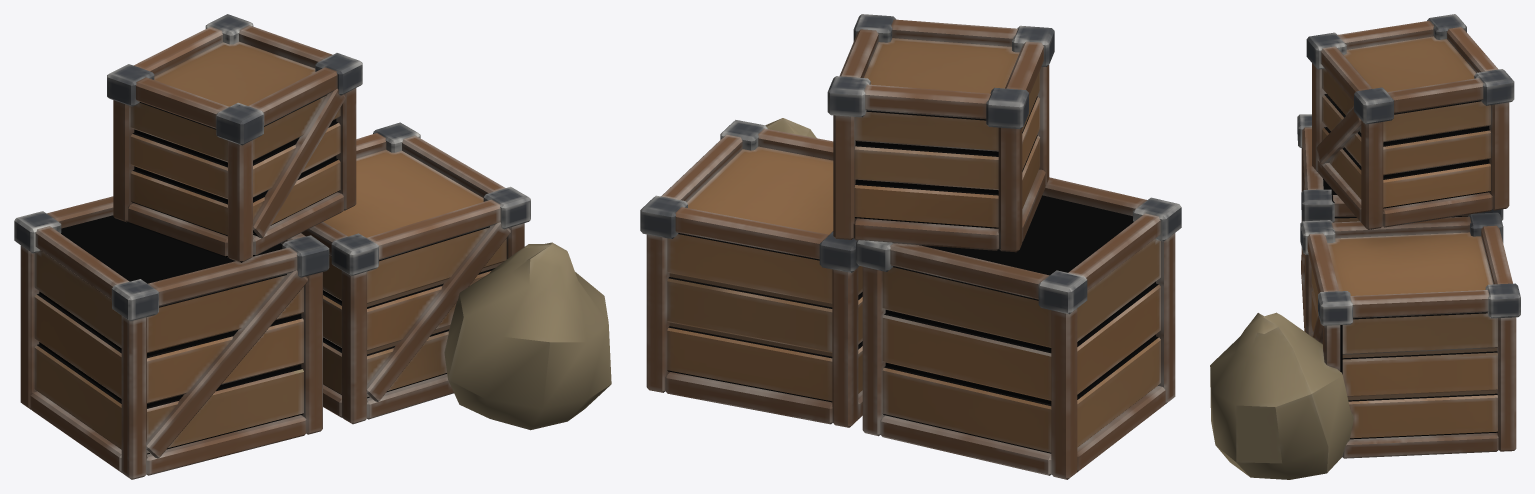
The model's file is gallows_crate_stack.glb.
3 views of the same model, side by side, from view 1: azimuth 30°, elevation 25°; view 2: azimuth 150°, elevation 25°; view 3: azimuth 270°, elevation 25° (orthographic). The views are drawn at different scales.
Parts seen in each view (by area): view 1: gallows_crate_stack; view 2: gallows_crate_stack; view 3: gallows_crate_stack.
Part boxes in pixels (<box>): gallows_crate_stack: <box>14,14,611,479</box>; gallows_crate_stack: <box>640,14,1181,479</box>; gallows_crate_stack: <box>1210,14,1520,479</box>.
Size of the model in its own units: 2.38 by 1.66 by 1.53.
1 material, 1 textured.
